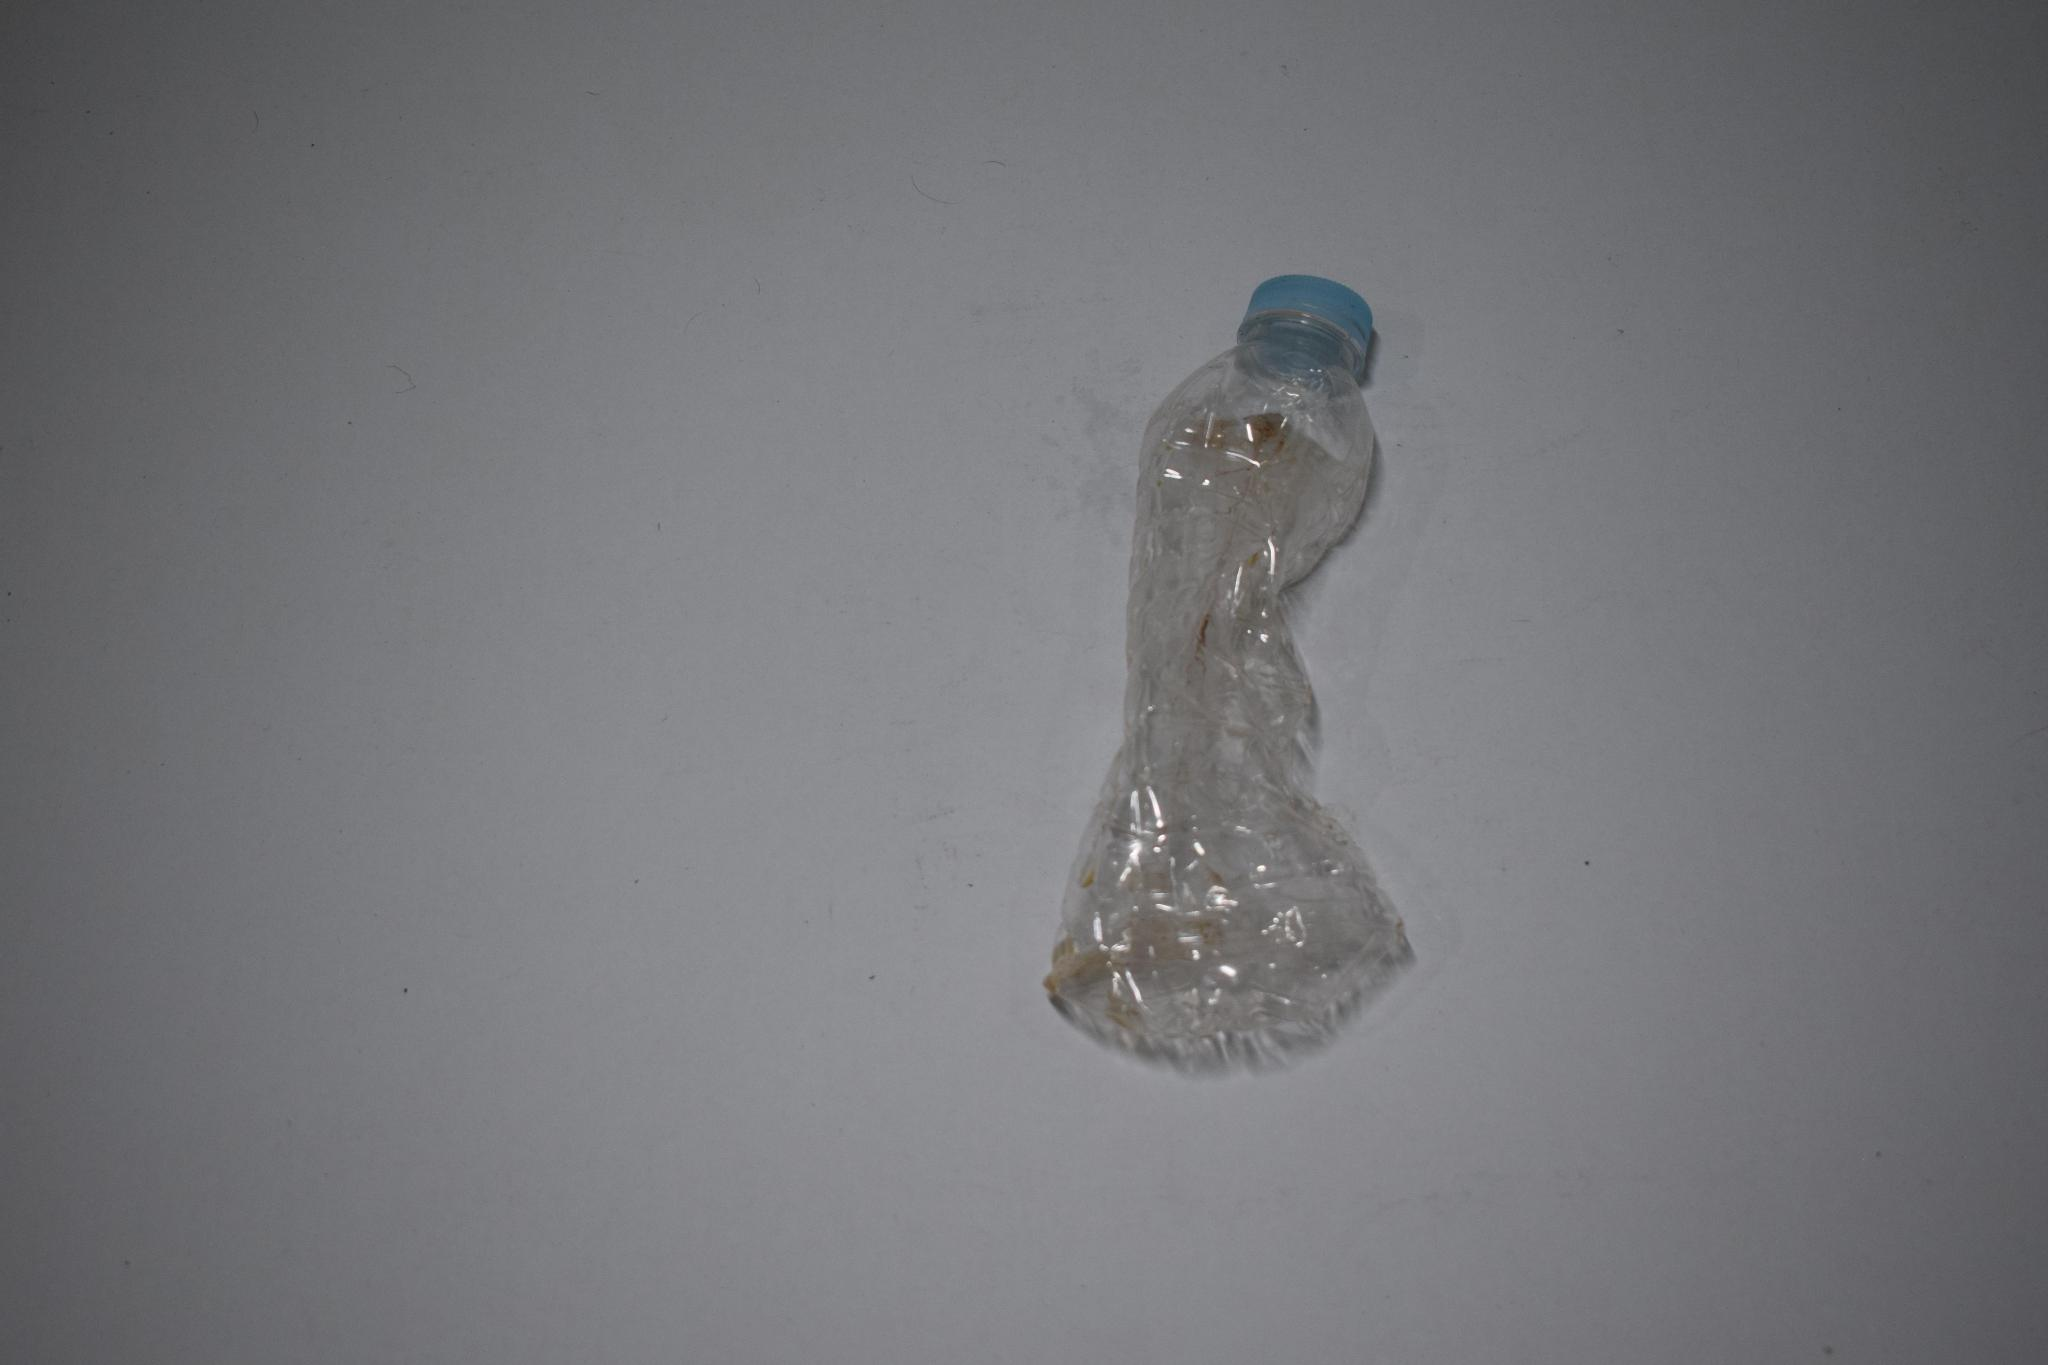bottle: (1058, 220, 1444, 1112)
